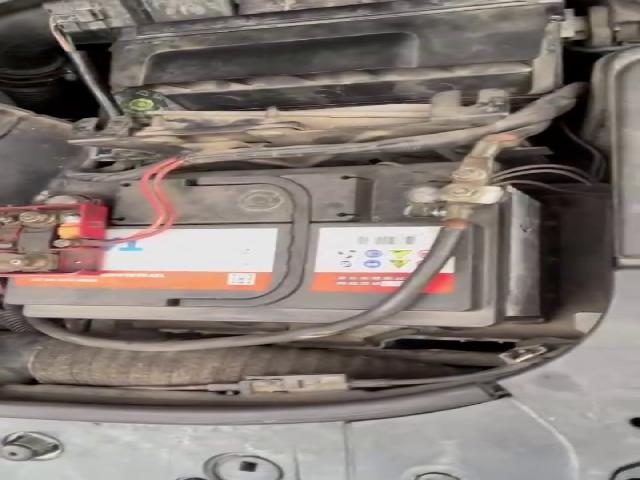accumulator: (0, 161, 549, 326)
